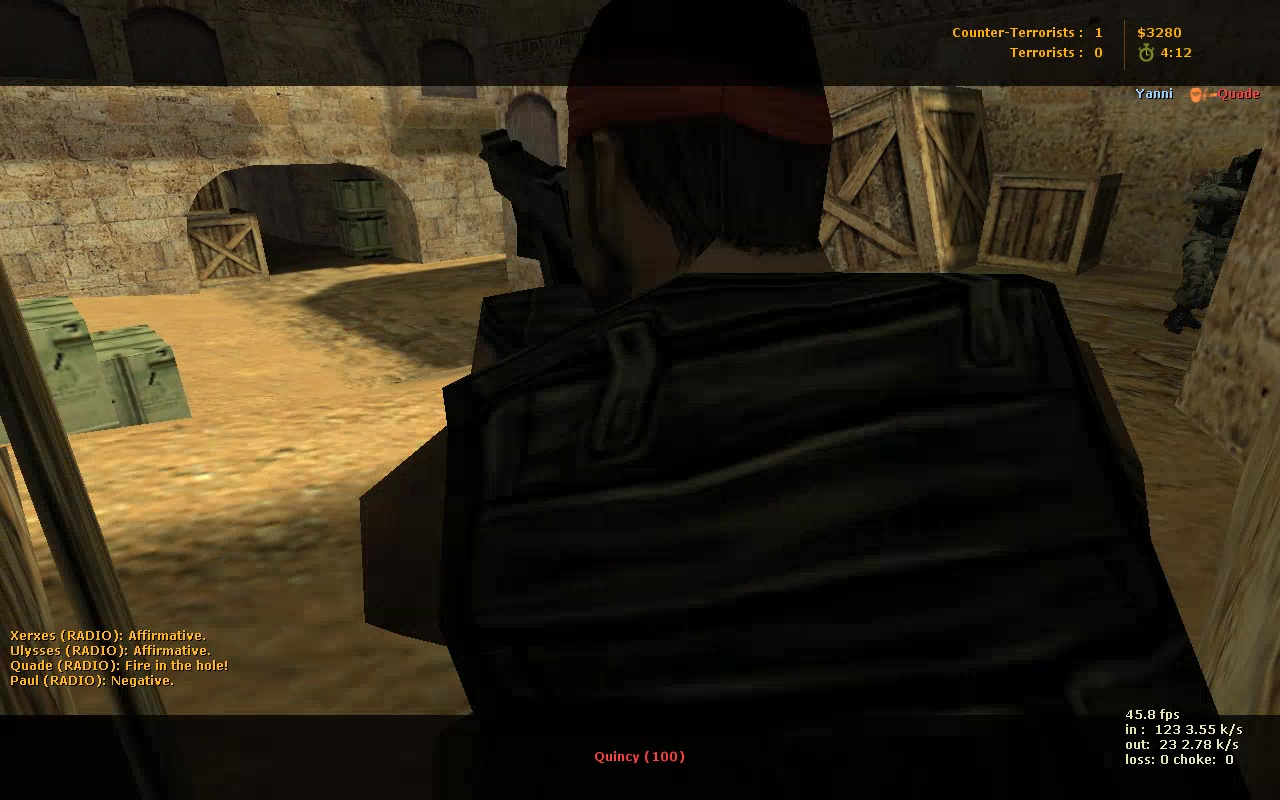terr2: (1166, 150, 1262, 338)
